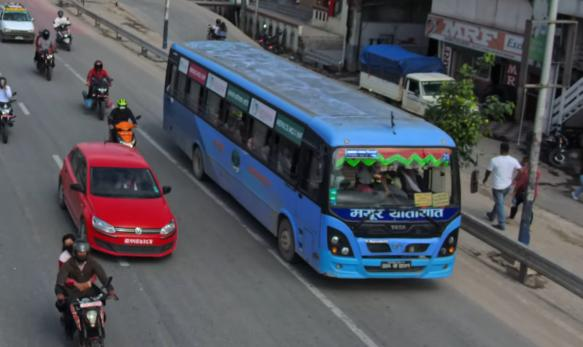bike: (81, 74, 112, 121), (34, 44, 57, 81)
bus: (160, 28, 459, 285)
car: (56, 140, 179, 263)
scooter: (107, 117, 141, 151)
taxi: (0, 4, 36, 44)
transport_vehicle: (356, 36, 482, 126)
